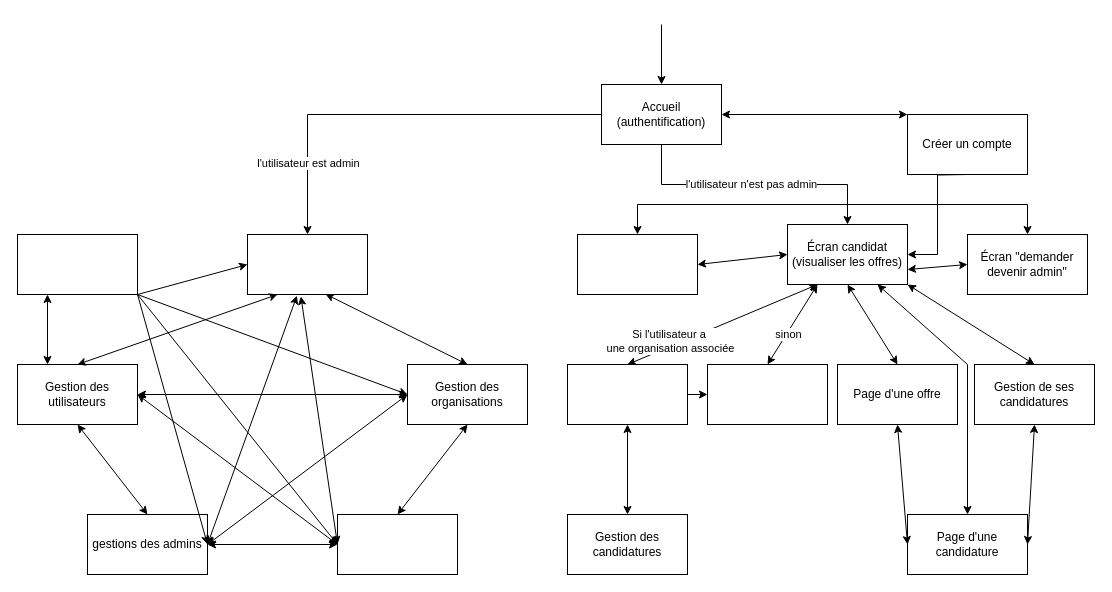
This 1112x592 diagram has some shape labels left out. The shapes that lost their labels are listed below. From the top down, each one's box as (x1, y1, x2, y2) in pixels, then its label:
(16, 234, 138, 294): Modification d'un utilisateur
(246, 234, 368, 294): Écran administrateur (gestion des recruteurs)
(576, 234, 698, 294): Écran "demander devenir recruteur"
(566, 364, 688, 424): Écran recruteur (visualiser ses offres)
(706, 364, 828, 424): Écran rejoindre/créer son organisation
(336, 514, 458, 574): gestions des adhésions aux organisations
